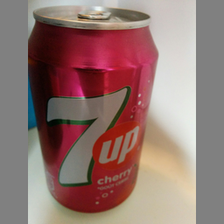soda: (28, 4, 159, 214)
